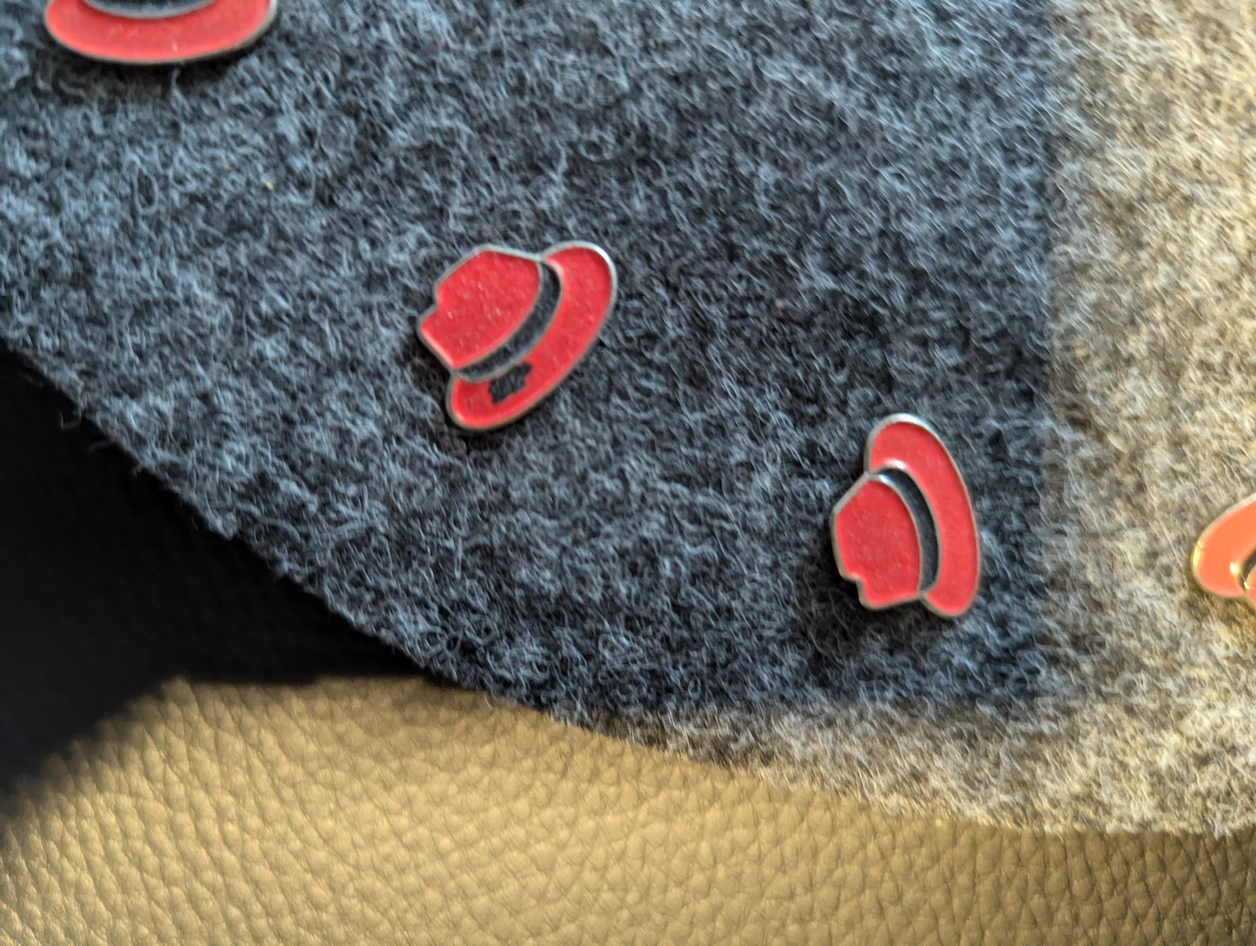Red-Hat: (397, 206, 654, 457), (817, 393, 1007, 639)
Scratch: (476, 352, 546, 413)
